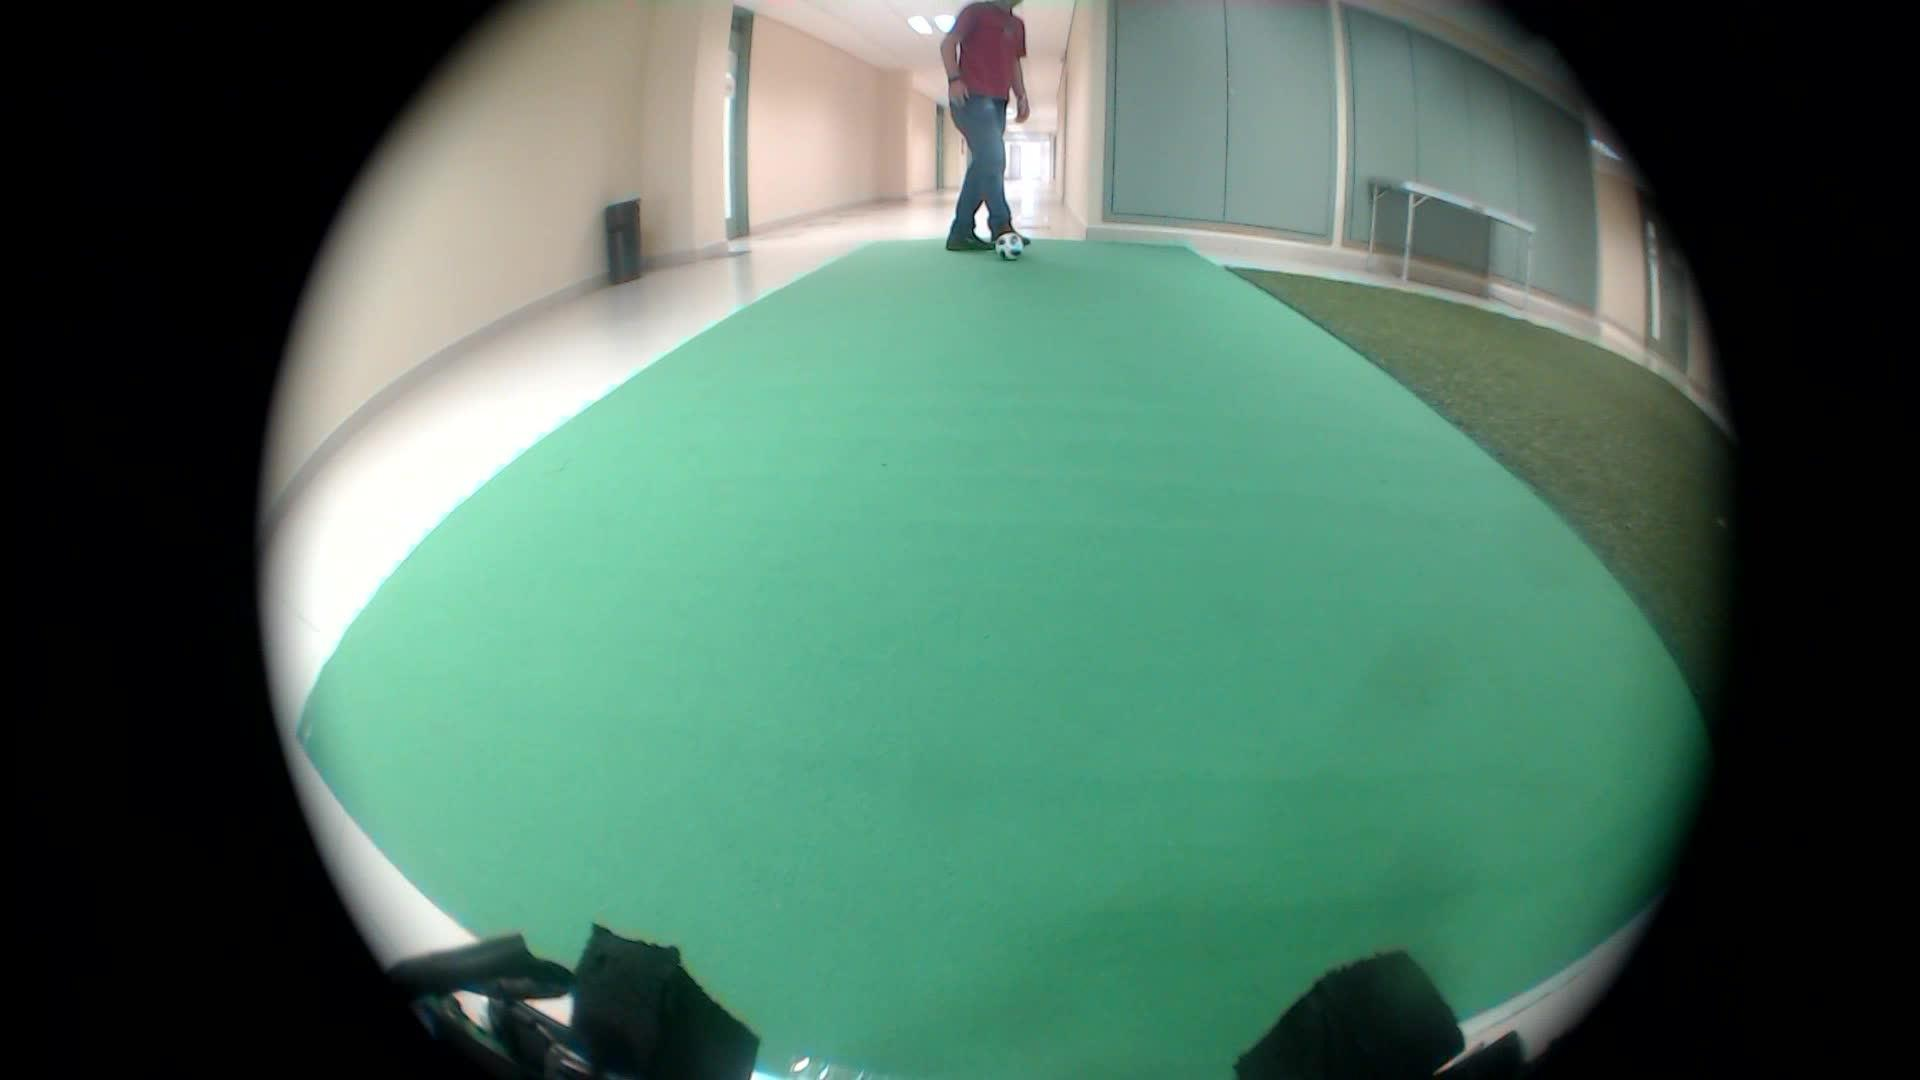ball: (982, 222, 1031, 265)
